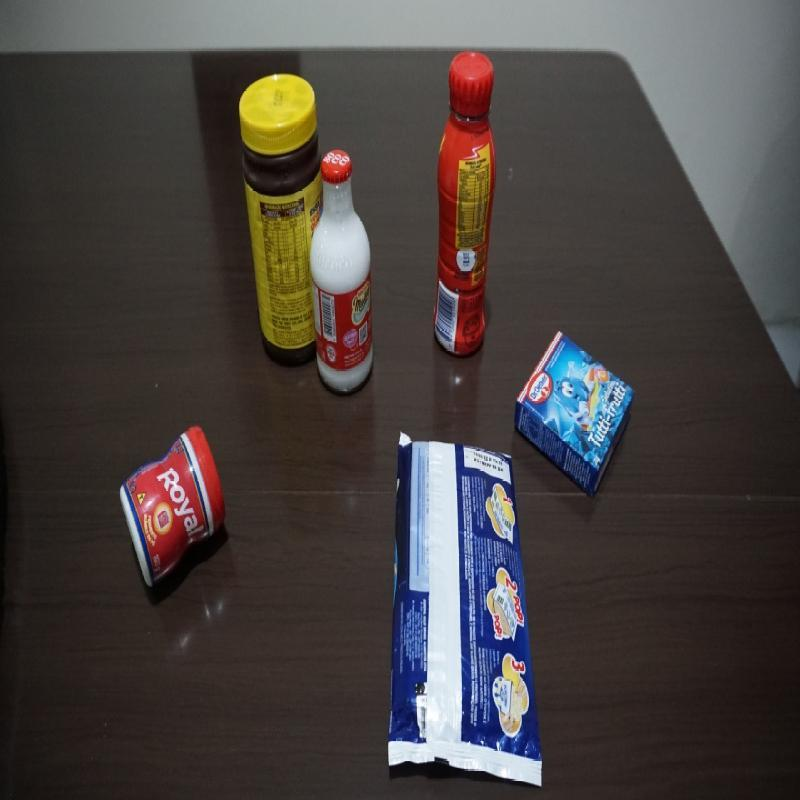Chocolate Milk: (432, 46, 497, 362)
Chocolate Powder: (235, 71, 324, 369)
Coconut Milk: (308, 145, 377, 396)
Gelatine: (513, 329, 638, 500)
Popcorn: (386, 429, 544, 790)
Yeast: (118, 424, 228, 590)
